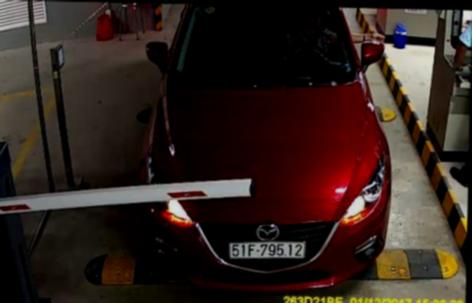License_Plate: (225, 238, 309, 261)
